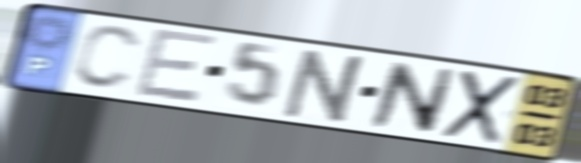5: (225, 38, 285, 115)
C: (69, 23, 146, 92)
E: (131, 25, 222, 105)
N: (277, 47, 374, 127), (366, 59, 459, 137)
X: (437, 67, 525, 147)
